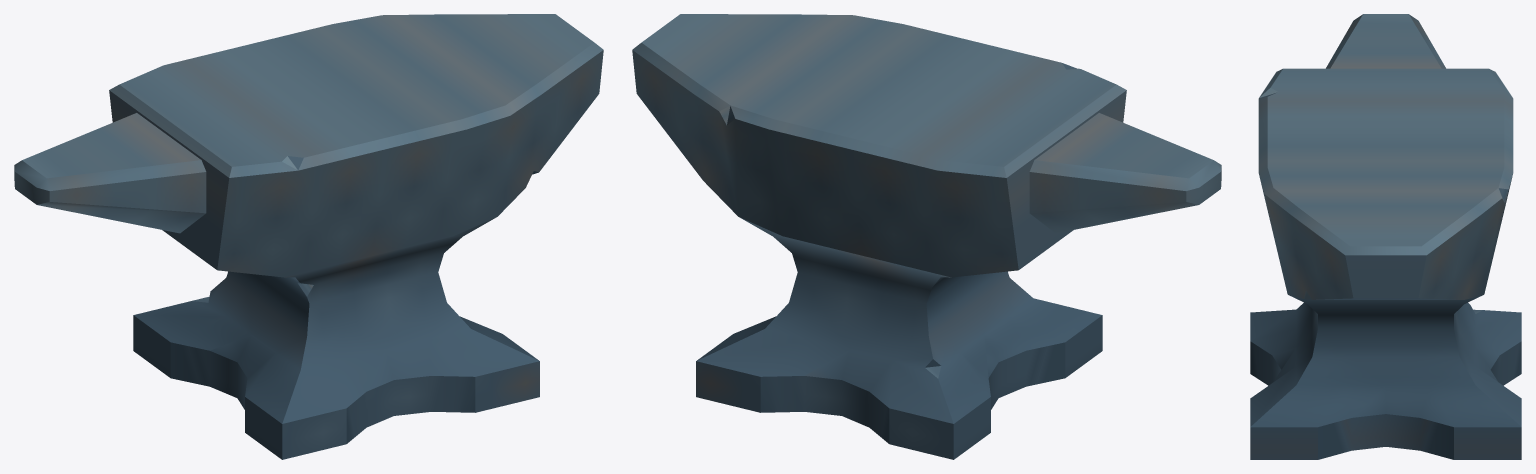
Rendered from anvil.glb.
3 views of the same model, side by side, from view 1: azimuth 30°, elevation 25°; view 2: azimuth 150°, elevation 25°; view 3: azimuth 270°, elevation 25° (orthographic). The views are drawn at different scales.
Visible parts, largest first — view 1: anvil; view 2: anvil; view 3: anvil.
Boxes of the visible parts, bbox=[...] form: anvil: bbox=[14, 14, 603, 459]; anvil: bbox=[632, 14, 1221, 459]; anvil: bbox=[1250, 14, 1521, 459].
Bounding box in the file's own units: 1.62 × 0.8 × 0.75.
1 material, 1 textured.
